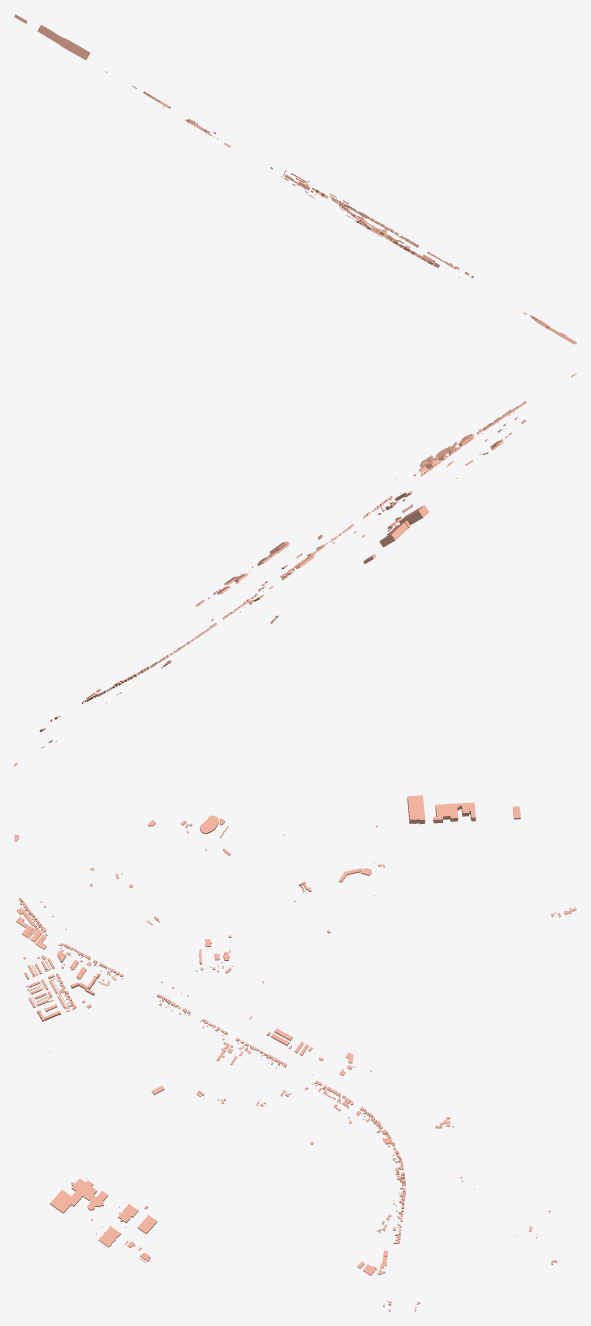
3 renders of one model, top to bottom at view 1: azimuth 30°, elevation 25°; view 2: azimuth 150°, elevation 25°; view 3: azimuth 270°, elevation 25°, orthographic. The views are drawn at different scales.
Size of the model in its own units: 1964 by 1532 by 2402.
